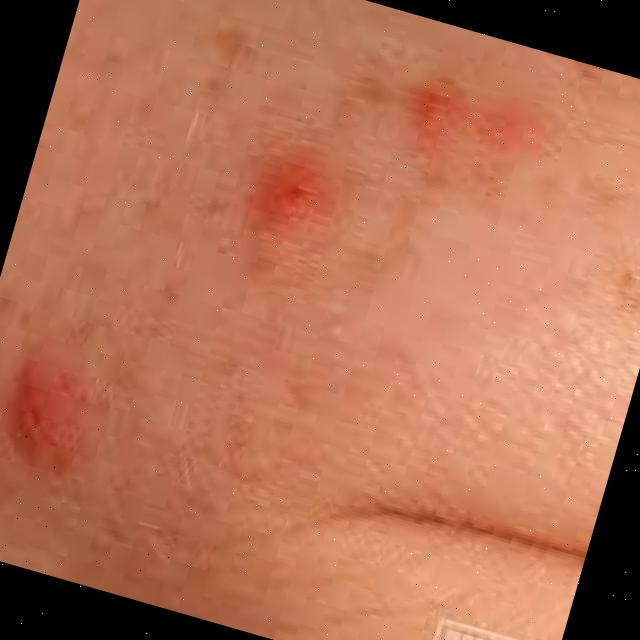kan emici bocekler: (395, 60, 539, 186), (10, 350, 101, 466), (258, 145, 339, 236)
